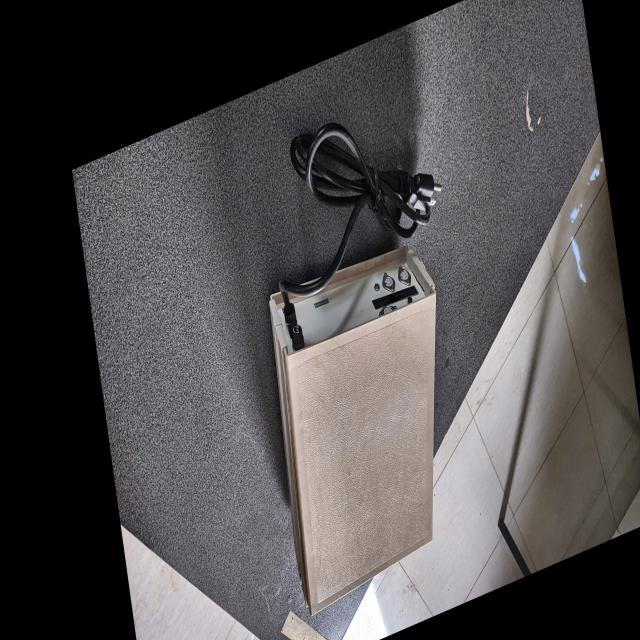Freefall Digital Timer: (254, 193, 472, 626)
